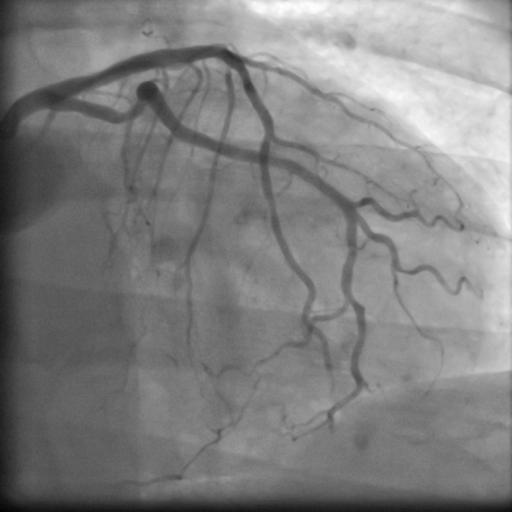Stenosis: (114, 108, 130, 124)
